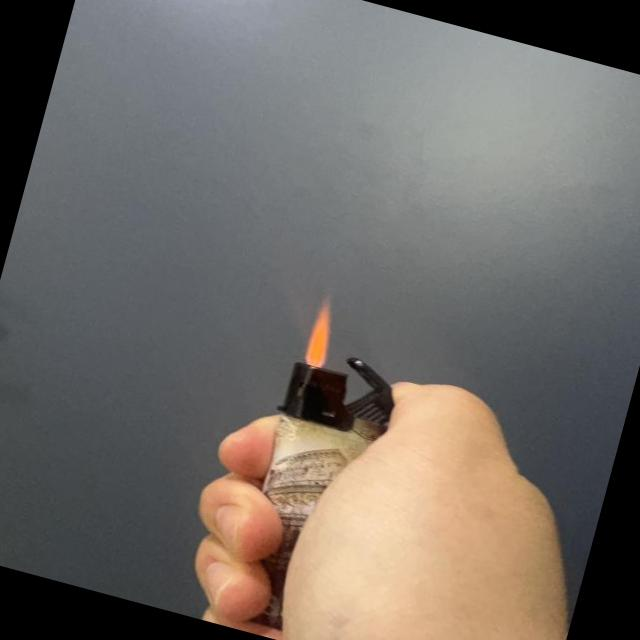Fire: (298, 292, 343, 368)
